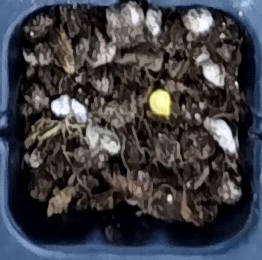pepper seed: (62, 29, 234, 147)
